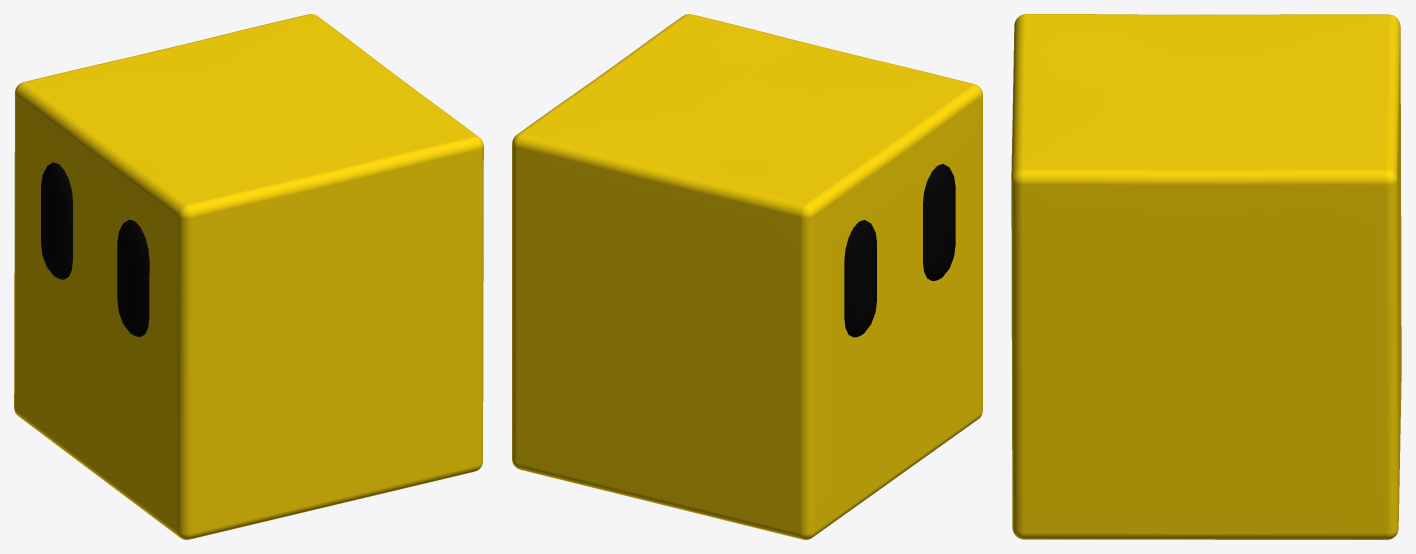
The model's file is CUBITO.glb.
3 renders of one model, left to right at view 1: azimuth 30°, elevation 25°; view 2: azimuth 150°, elevation 25°; view 3: azimuth 270°, elevation 25°, orthographic. The views are drawn at different scales.
Parts seen in each view (by area): view 1: polySurface4, polySurface5, polySurface6; view 2: polySurface4, polySurface6, polySurface5; view 3: polySurface4.
Part boxes in pixels (x1,y1,x2,y2): polySurface4: (14, 14, 483, 539); polySurface5: (117, 219, 149, 336); polySurface6: (41, 162, 72, 279); polySurface4: (512, 14, 982, 539); polySurface6: (844, 220, 876, 337); polySurface5: (923, 164, 955, 280); polySurface4: (1011, 14, 1401, 539).
Size of the model in its own units: 5.9 by 6.01 by 5.73.
